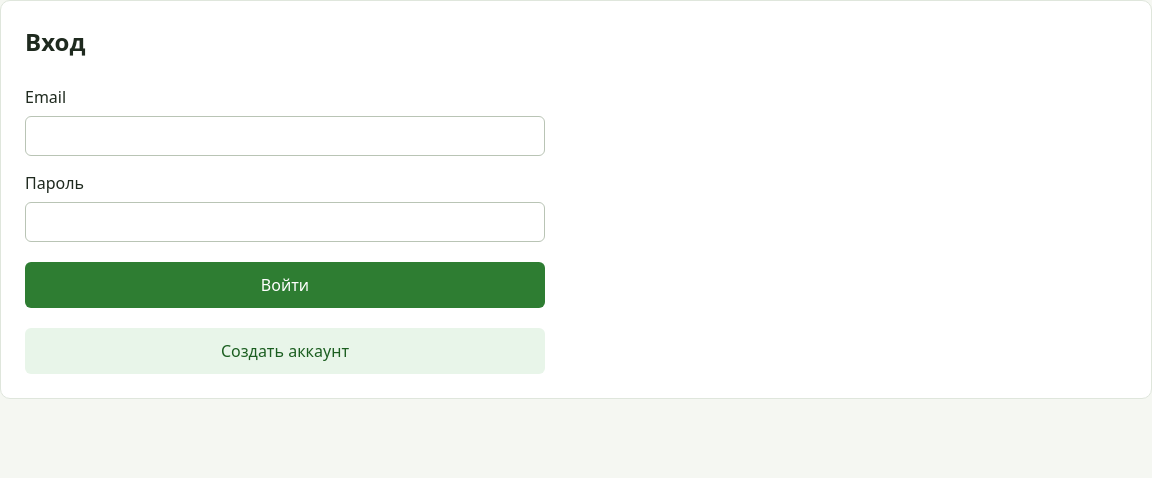
Test: ошибка входа показана пользователю
Type "buyer@example.test" into the field labelled "Email".
click(285, 136); type("buyer@example.test")  # box [25, 116, 545, 156]
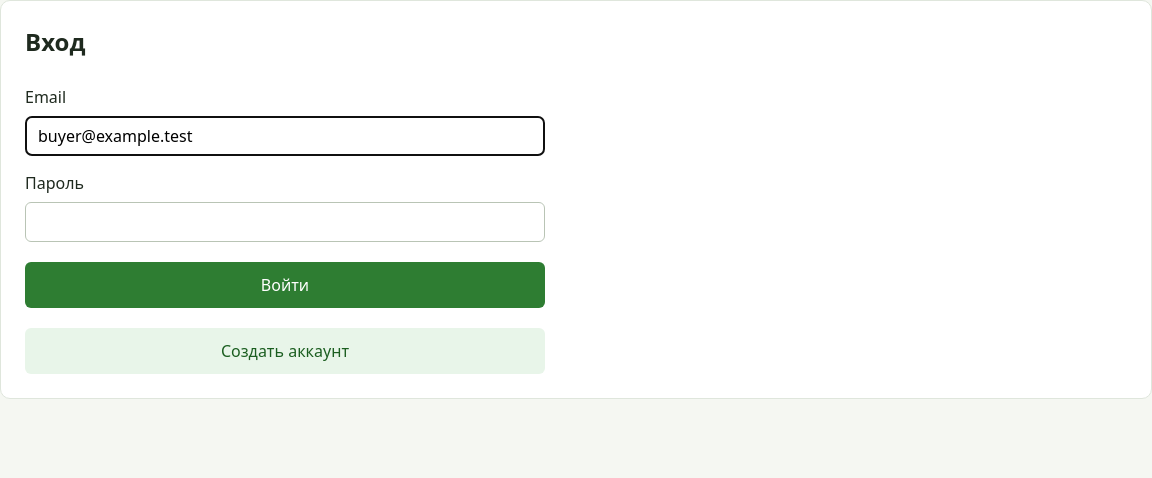
Type "Password-123" into the password field labelled "Пароль".
click(285, 222); type("Password-123")  # box [25, 202, 545, 242]
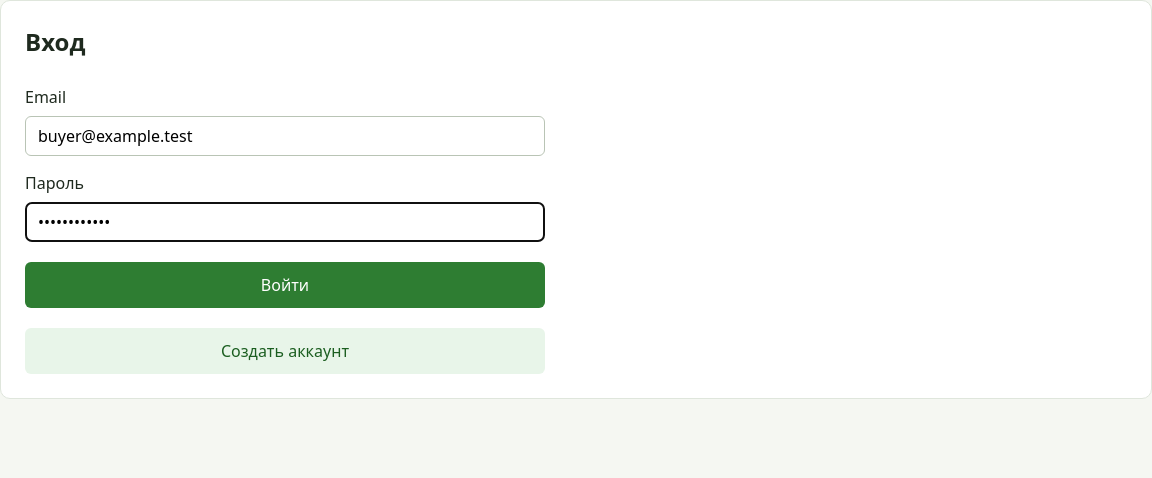
Click the button "Войти".
click(285, 285)  # box [25, 262, 545, 308]
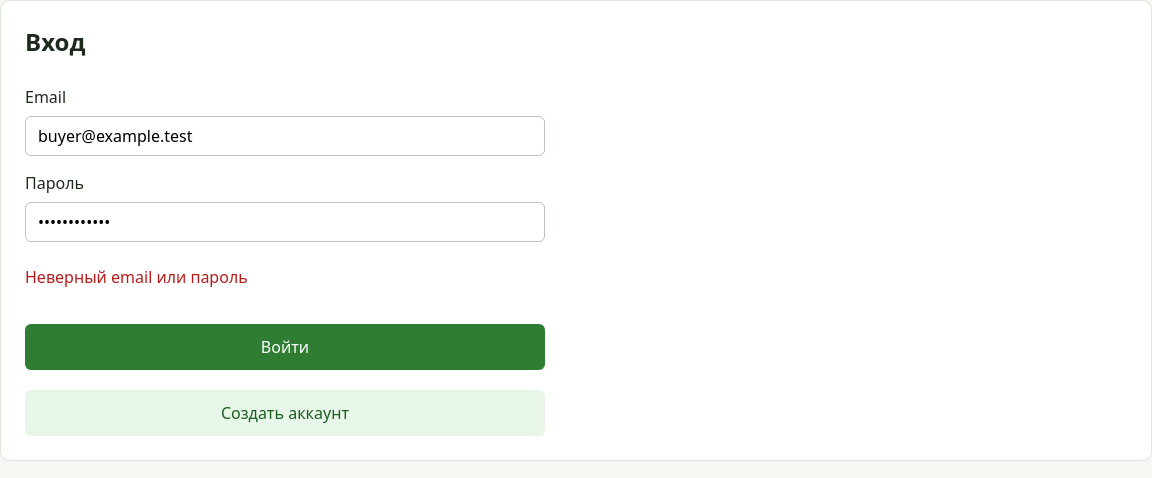
Check: the message reads "Неверный email или пароль", box [25, 266, 248, 288]
